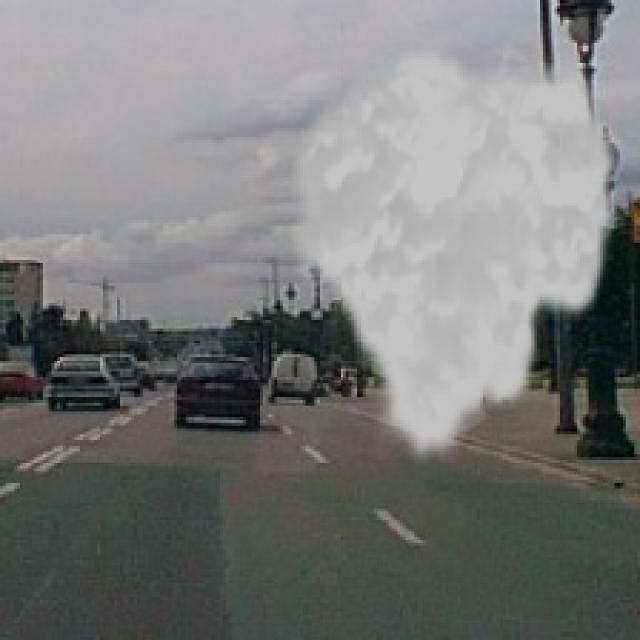Smoke: (280, 42, 623, 468)
